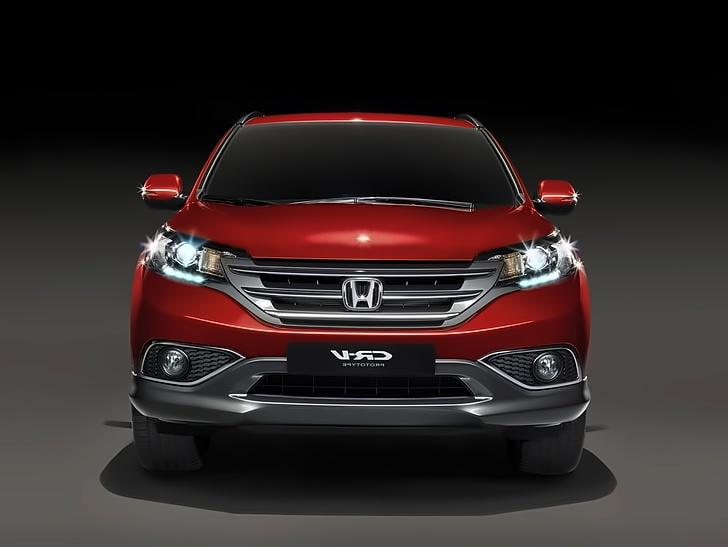Car hood: (165, 196, 559, 267)
Front bumper: (120, 265, 602, 449)
Headlight - -L-: (484, 224, 587, 298)
Headlight - -R-: (135, 218, 245, 291)
Side mirror - -L-: (524, 174, 586, 222)
Side mirror - -R-: (131, 164, 197, 218)
